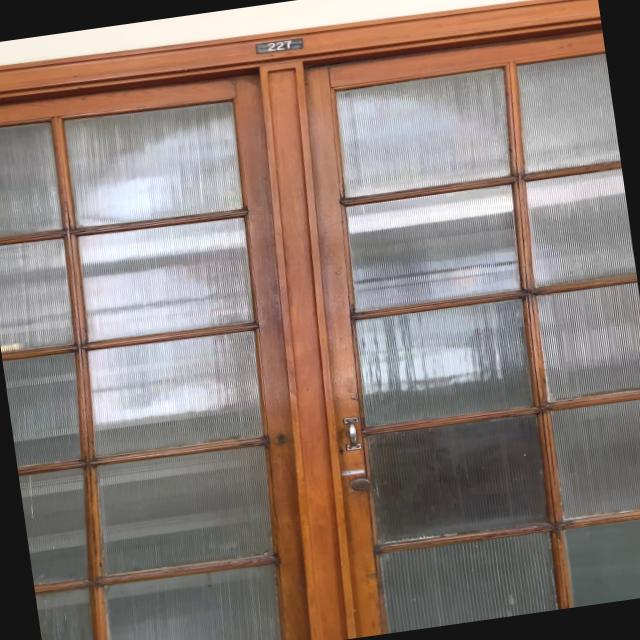room227: (252, 36, 308, 56)
